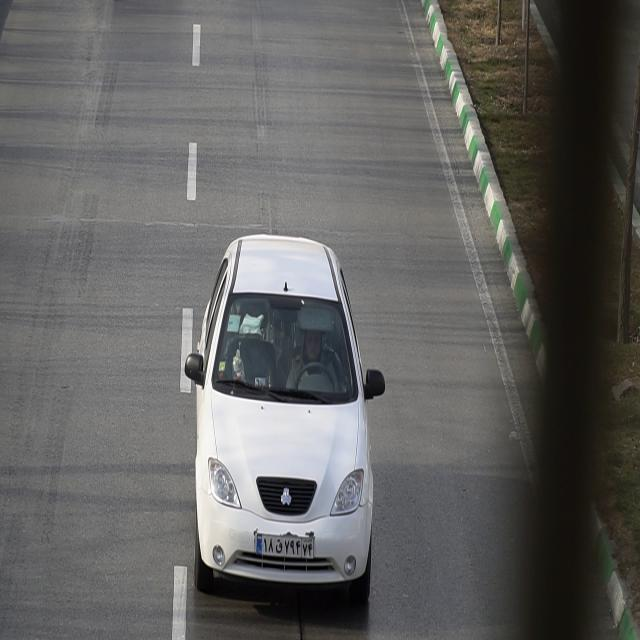car: (188, 233, 384, 606)
